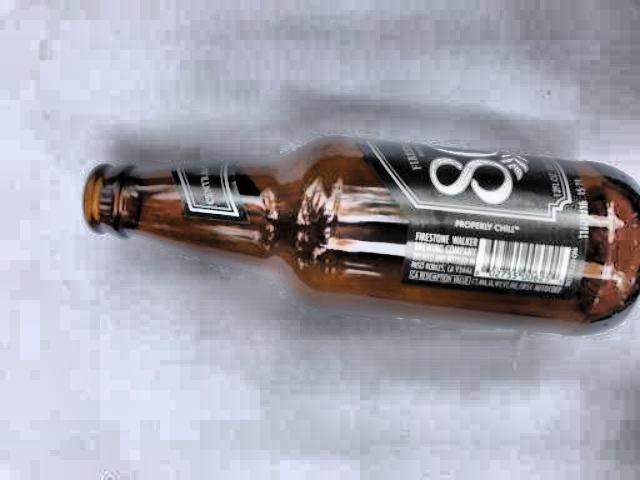Bottles: (60, 111, 640, 352)
